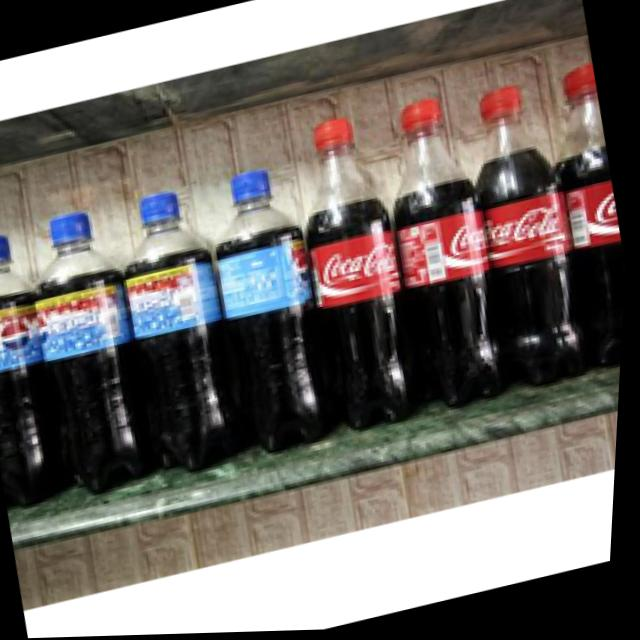plastic_soda_bottles: (264, 108, 435, 434), (362, 97, 522, 423), (181, 163, 350, 466), (16, 202, 173, 506), (450, 84, 604, 392), (102, 186, 258, 476), (529, 66, 637, 386), (0, 225, 89, 514)
